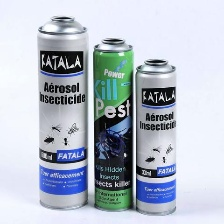aerosol_cans: (33, 12, 91, 212), (90, 35, 137, 213), (134, 56, 179, 218)
